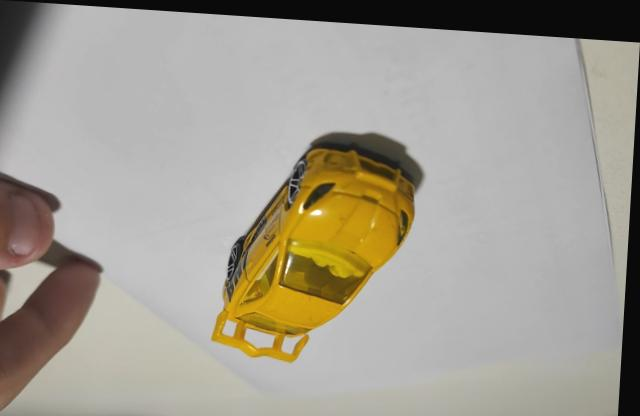07_RHLTURBO: (214, 142, 421, 358)
